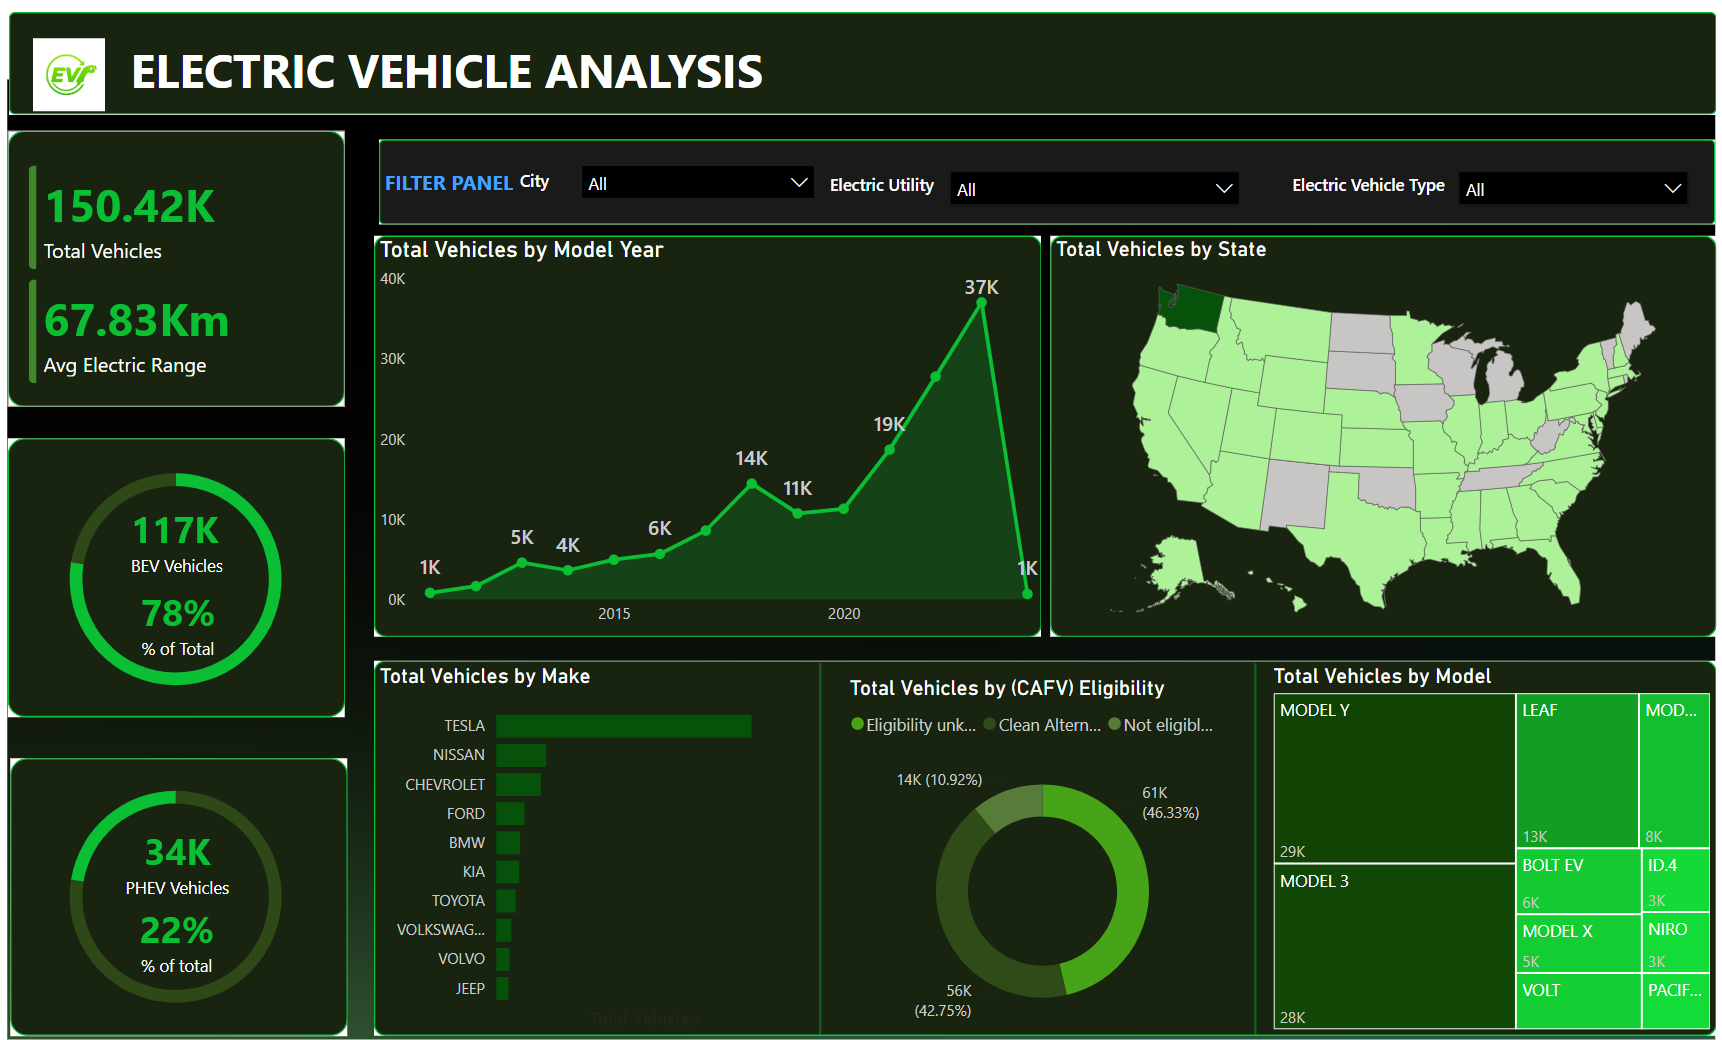

The page's visual inventory and layout, read from the dashboard file:
{"tool":"powerbi","page":{"name":"Page 1","canvas":[1900,1200],"ordinal":0},"visuals":[{"type":"shape","box":[267.9,160.4,1366,81.1],"z":0},{"type":"slicer","fields":{"Values":["Electric_Vehicle_Population_Data.Electric Utility"]},"box":[1011.5,276.8,252.2,40.6],"z":0,"group":"g5"},{"type":"slicer","fields":{"Values":["Electric_Vehicle_Population_Data.Electric Vehicle Type"]},"box":[1417.4,276.9,204.3,44.9],"z":0,"group":"g6"},{"type":"shape","box":[563.8,262.3,1069.6,68.1],"z":500},{"type":"textbox","box":[563.8,279.7,137.7,36.2],"z":1000},{"type":"textbox","box":[920.3,284,95.7,31.9],"z":1000,"group":"g5"},{"type":"textbox","box":[1289.9,284.1,143.5,42],"z":1000,"group":"g6"},{"type":"shape","box":[267.2,501.5,270.1,222.4],"z":2000},{"type":"shape","box":[267.2,255.2,270.1,220.9],"z":3000},{"type":"cardVisual","fields":{"Data":["Electric_Vehicle_Population_Data.Total Vehicles","Electric_Vehicle_Population_Data.Avg Electric Range"]},"box":[267.2,265.7,270.1,209],"z":4000},{"type":"donutChart","fields":{"Category":["Electric_Vehicle_Population_Data.Electric Vehicle Type"],"Y":["Electric_Vehicle_Population_Data.Total Vehicles"]},"box":[267.2,503,268.7,222.4],"z":5000,"group":"g1"},{"type":"donutChart","fields":{"Category":["Electric_Vehicle_Population_Data.Electric Vehicle Type"],"Y":["Electric_Vehicle_Population_Data.Total Vehicles"]},"box":[267.2,756.7,268.7,222.4],"z":5000,"group":"g3"},{"type":"shape","box":[268.7,756.7,270.1,222.4],"z":5000},{"type":"group","id":"g1","title":"Group 1","box":[267.2,503,268.7,222.4],"z":6000},{"type":"cardVisual","title":"BEV Vehicles","fields":{"Data":["Electric_Vehicle_Population_Data.BEV VEHICLES"]},"box":[365.7,549.3,76.1,65.7],"z":7000,"group":"g1"},{"type":"group","id":"g2","title":"Group 1","box":[267.2,756.7,268.7,222.4],"z":7000},{"type":"cardVisual","title":"BEV Vehicles","fields":{"Data":["Electric_Vehicle_Population_Data.PHEV VEHICLES"]},"box":[356.5,806.4,94,65.7],"z":7000,"group":"g3"},{"type":"group","id":"g3","title":"Group 2","box":[267.2,756.7,268.7,222.4],"z":7001,"group":"g2"},{"type":"cardVisual","title":"% of total","fields":{"Data":["Electric_Vehicle_Population_Data.% of BEV"]},"box":[349.3,614.9,109,65.7],"z":8000,"group":"g1"},{"type":"cardVisual","title":"% of total","fields":{"Data":["Electric_Vehicle_Population_Data.% of PHEV"]},"box":[348.4,869.1,109,65.7],"z":8000,"group":"g3"},{"type":"shape","box":[559.7,338.8,534,320.9],"z":9000},{"type":"shape","box":[1101.5,338.8,532.8,320.9],"z":10000},{"type":"areaChart","fields":{"Category":["Electric_Vehicle_Population_Data.Model Year"],"Y":["Electric_Vehicle_Population_Data.Total Vehicles"]},"box":[559.7,338.8,541.8,320.9],"z":11000},{"type":"shapeMap","fields":{"Category":["Electric_Vehicle_Population_Data.State"],"Value":["Electric_Vehicle_Population_Data.Total Vehicles"]},"box":[1101.5,338.8,532.8,320.9],"z":12000},{"type":"shape","box":[559.7,679.1,1074.6,300],"z":13000},{"type":"clusteredBarChart","fields":{"Category":["Electric_Vehicle_Population_Data.Make"],"Y":["Electric_Vehicle_Population_Data.Total Vehicles"]},"box":[559.7,680.6,340.3,298.5],"z":14000},{"type":"donutChart","title":"Total Vehicles by (CAFV) Eligibility","fields":{"Category":["Electric_Vehicle_Population_Data.Clean Alternative Fuel Vehicle (CAFV) Eligibility"],"Y":["Electric_Vehicle_Population_Data.Total Vehicles"]},"box":[935.8,689.6,317.9,298.5],"z":15000},{"type":"treemap","fields":{"Group":["Electric_Vehicle_Population_Data.Model"],"Values":["Electric_Vehicle_Population_Data.Total Vehicles"]},"box":[1274.6,680.6,359.7,298.5],"z":16000},{"type":"shape","box":[1258.2,680.6,13.4,298.5],"z":17000},{"type":"shape","box":[910.4,680.6,13.4,298.5],"z":18000},{"type":"textbox","box":[357.8,175.7,520.9,70.1],"z":19000},{"type":"slicer","fields":{"Values":["Electric_Vehicle_Population_Data.City"]},"box":[716.3,272.5,207.2,40.6],"z":19001,"group":"g4"},{"type":"textbox","box":[672.5,281.3,37.7,31.9],"z":19002,"group":"g4"},{"type":"group","id":"g4","title":"Group 3","box":[672.5,272.5,250.7,40.6],"z":19003},{"type":"group","id":"g5","title":"Group 3","box":[920.3,276.8,343.5,40.6],"z":19004},{"type":"group","id":"g6","title":"Group 3","box":[1289.9,276.9,331.9,49.3],"z":19005},{"type":"image","box":[268.1,181.2,97.1,58],"z":19006}]}

Visuals, with their boxes on the page's 1900x1200 design canvas (x1, y1, x2, y2). These are canvas units, not pixel positions in the 1722x1040 screenshot, which may show the page scaled, cropped or inside an application window:
shape: [268,160,1634,242]
slicer - Electric_Vehicle_Population_Data.Electric Utility: [1012,277,1264,317]
slicer - Electric_Vehicle_Population_Data.Electric Vehicle Type: [1417,277,1622,322]
shape: [564,262,1633,330]
textbox: [564,280,702,316]
textbox: [920,284,1016,316]
textbox: [1290,284,1433,326]
shape: [267,502,537,724]
shape: [267,255,537,476]
cardVisual - Electric_Vehicle_Population_Data.Total Vehicles x Electric_Vehicle_Population_Data.Avg Electric Range: [267,266,537,475]
donutChart - Electric_Vehicle_Population_Data.Electric Vehicle Type x Electric_Vehicle_Population_Data.Total Vehicles: [267,503,536,725]
donutChart - Electric_Vehicle_Population_Data.Electric Vehicle Type x Electric_Vehicle_Population_Data.Total Vehicles: [267,757,536,979]
shape: [269,757,539,979]
"Group 1" group: [267,503,536,725]
"BEV Vehicles" cardVisual: [366,549,442,615]
"Group 1" group: [267,757,536,979]
"BEV Vehicles" cardVisual: [356,806,450,872]
"Group 2" group: [267,757,536,979]
"% of total" cardVisual: [349,615,458,681]
"% of total" cardVisual: [348,869,457,935]
shape: [560,339,1094,660]
shape: [1102,339,1634,660]
areaChart - Electric_Vehicle_Population_Data.Model Year x Electric_Vehicle_Population_Data.Total Vehicles: [560,339,1102,660]
shapeMap - Electric_Vehicle_Population_Data.State x Electric_Vehicle_Population_Data.Total Vehicles: [1102,339,1634,660]
shape: [560,679,1634,979]
clusteredBarChart - Electric_Vehicle_Population_Data.Make x Electric_Vehicle_Population_Data.Total Vehicles: [560,681,900,979]
"Total Vehicles by (CAFV) Eligibility" donutChart: [936,690,1254,988]
treemap - Electric_Vehicle_Population_Data.Model x Electric_Vehicle_Population_Data.Total Vehicles: [1275,681,1634,979]
shape: [1258,681,1272,979]
shape: [910,681,924,979]
textbox: [358,176,879,246]
slicer - Electric_Vehicle_Population_Data.City: [716,272,924,313]
textbox: [672,281,710,313]
"Group 3" group: [672,272,923,313]
"Group 3" group: [920,277,1264,317]
"Group 3" group: [1290,277,1622,326]
image: [268,181,365,239]
